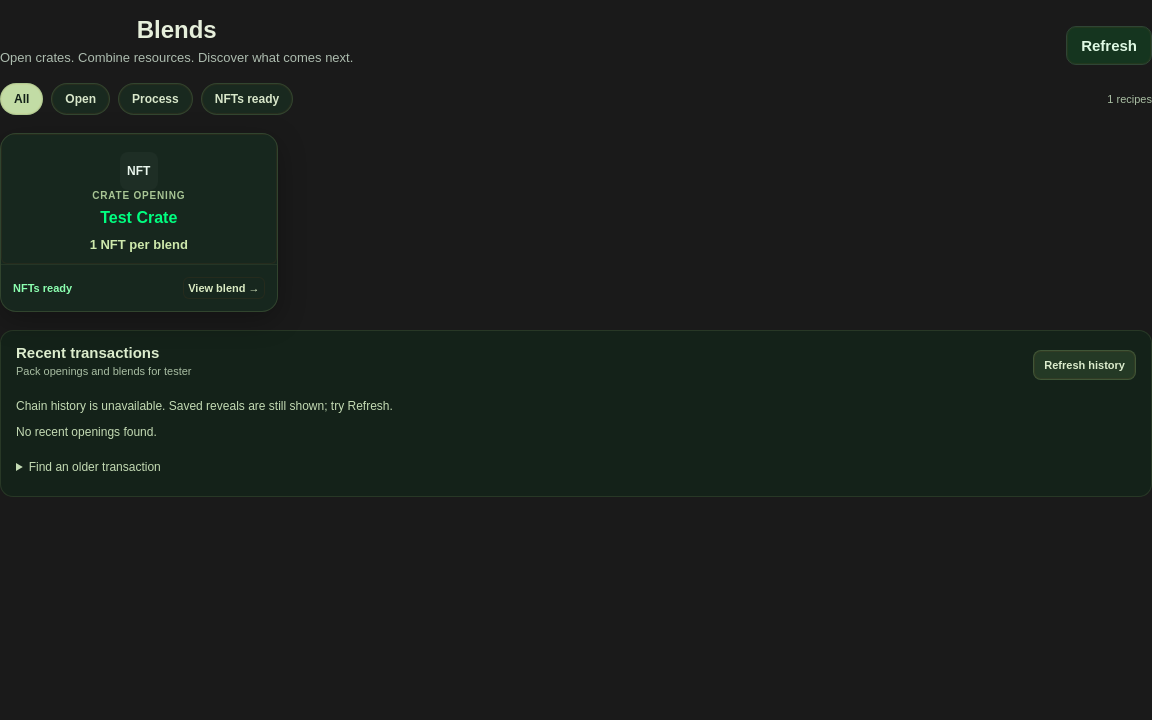
Test: fresh ownership is required before executing a blend
Click the button with aria-label "View Test Crate": (139, 199) [1,134,276,264]
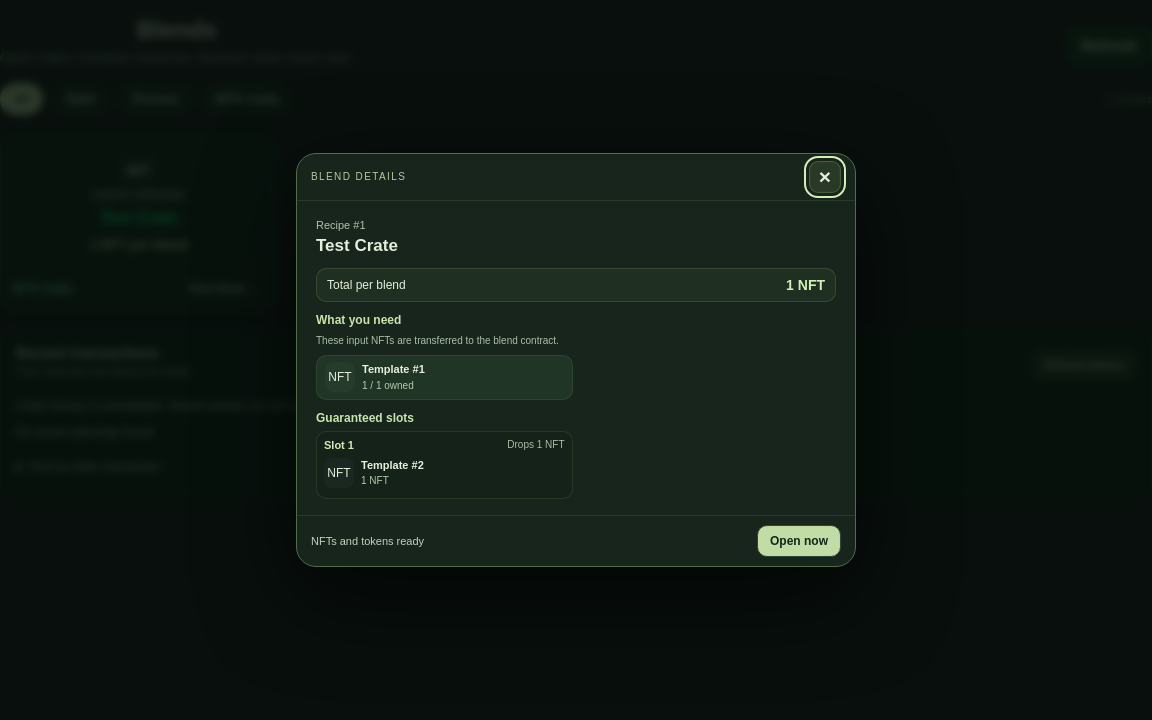
Click the button "Open now": (799, 541) [757,525,841,557]
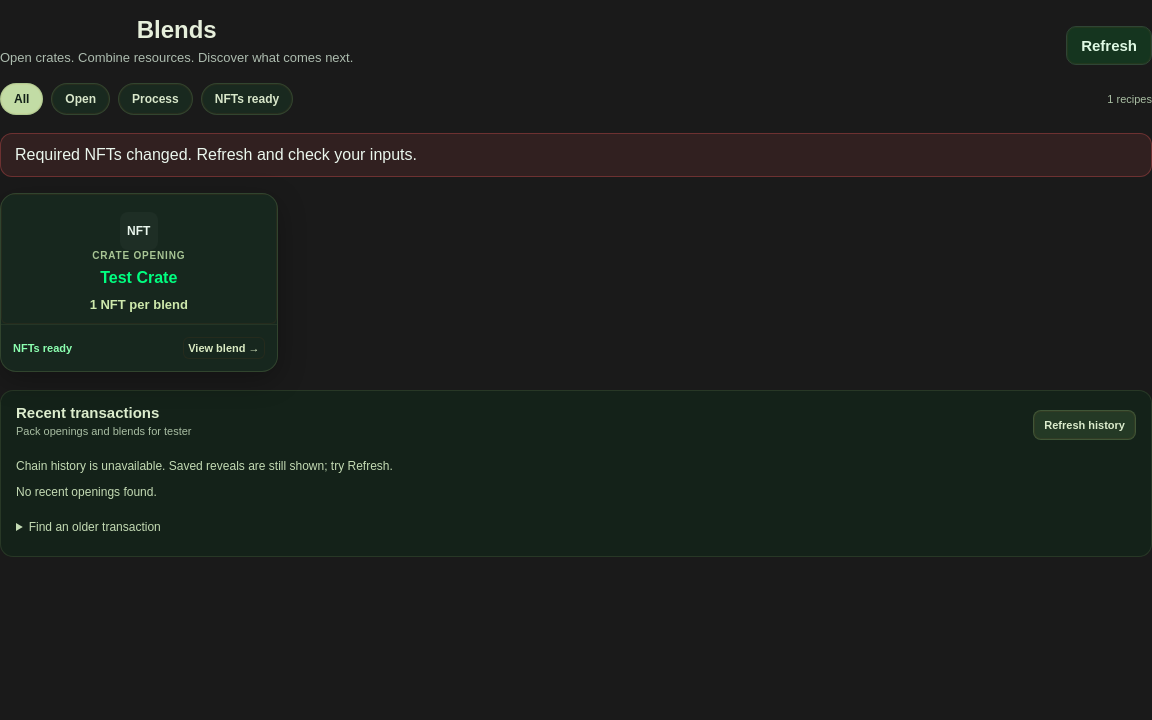
Check: the message "Required NFTs changed. Refresh and check your inputs." is shown, box [0,133,1151,177]
